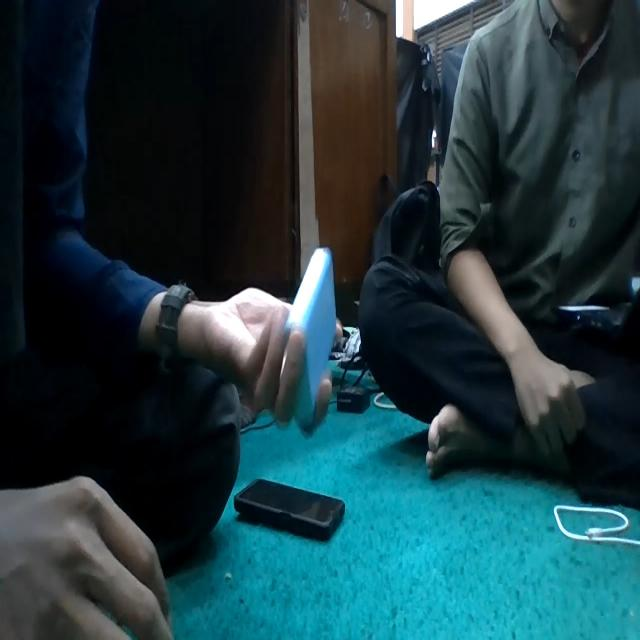Powerbank: (286, 248, 336, 430)
